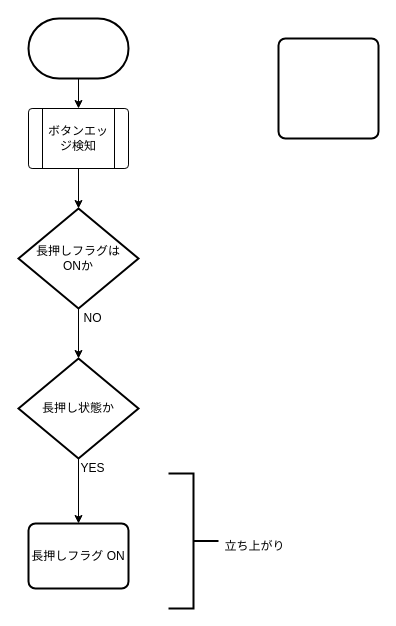
Some shapes in this 396 by 626 pixel diagram are drawn without their labels. Each missing label, with the centre of its shape:
長押しフラグ 変数: [328,88]
長押し検知: [78,48]
